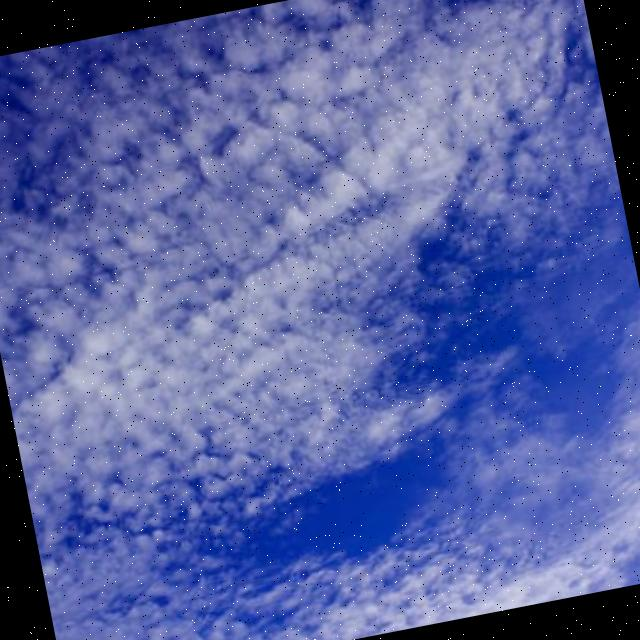As: (1, 1, 640, 530)
